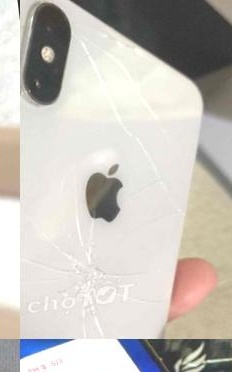physical_damage: (0, 0, 224, 170)
